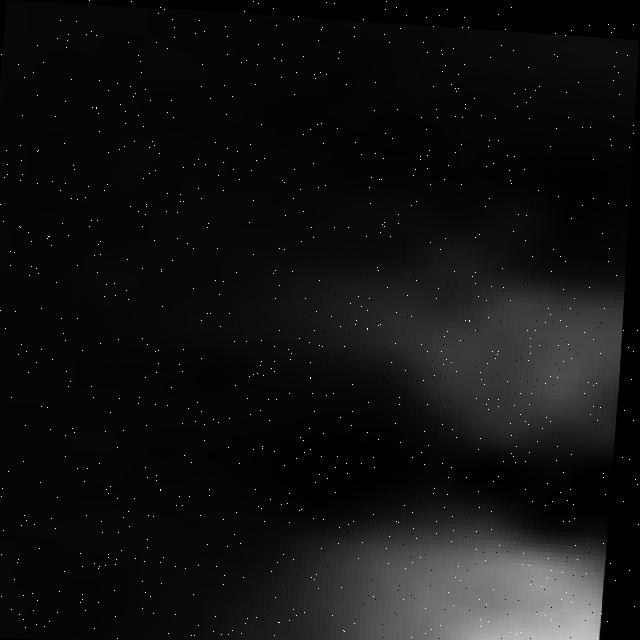person: (236, 176, 633, 463), (136, 491, 615, 640)
